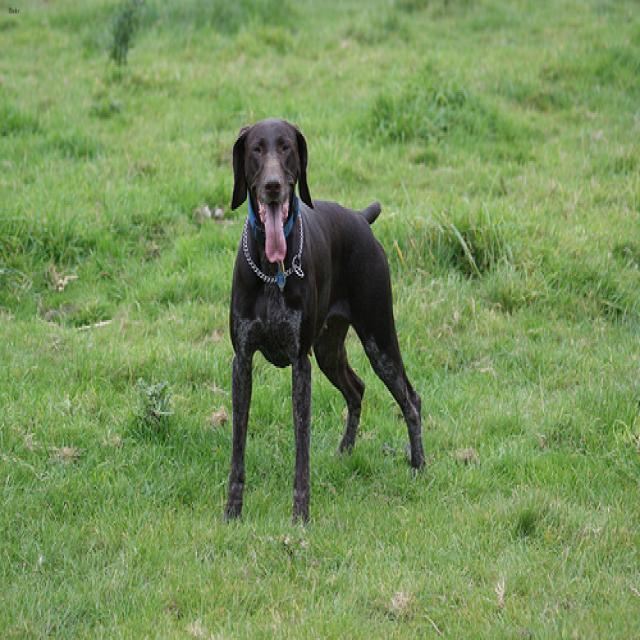dog-german_shorthaired: (219, 115, 431, 527)
